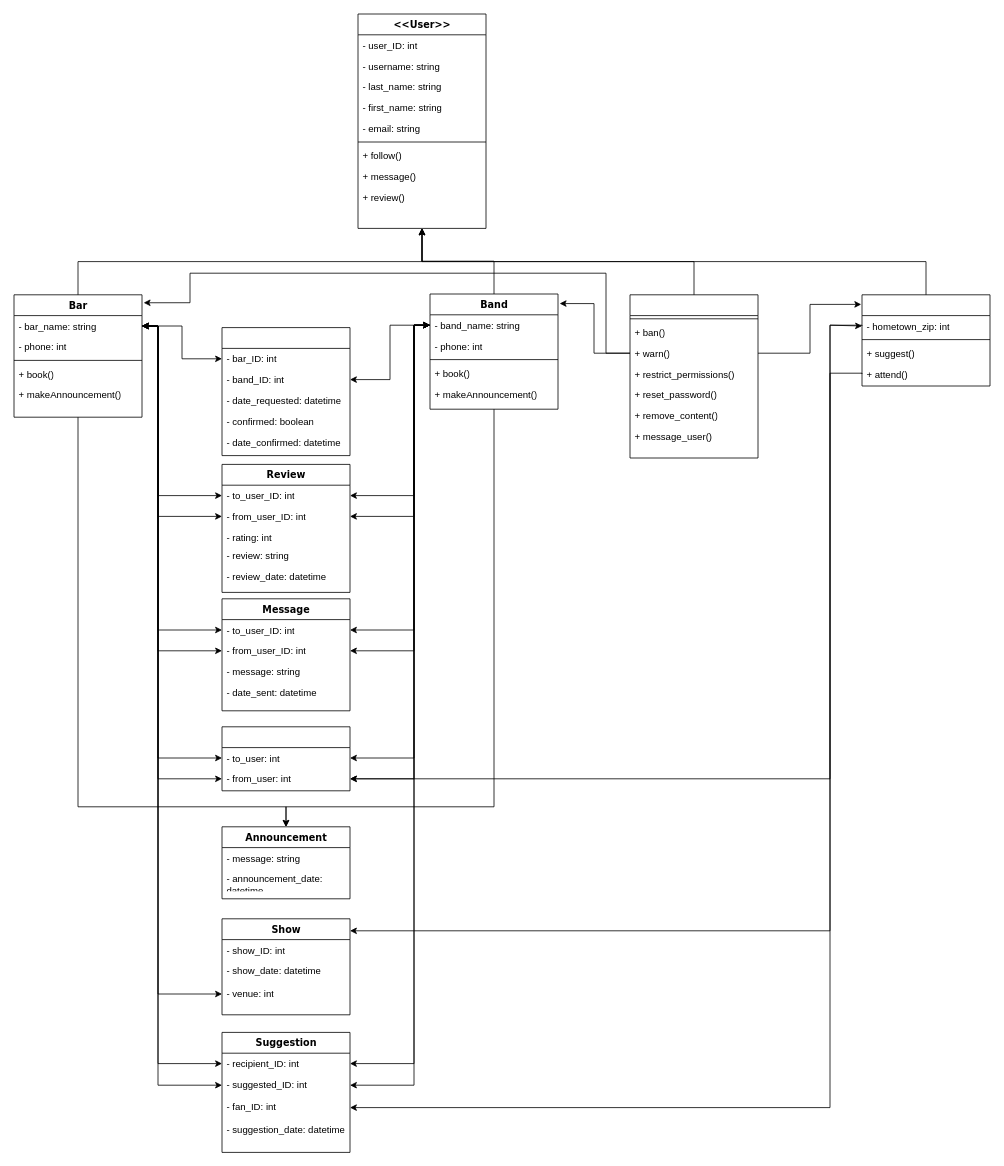
This 1004x1166 diagram has some shape labels left out. The box of each missing label's shape, as (x1, y1, x2, y2) in pixels:
Admin: (629, 294, 758, 458)
Booking: (221, 327, 350, 456)
Fan: (861, 294, 990, 386)
Follow: (221, 726, 350, 791)
